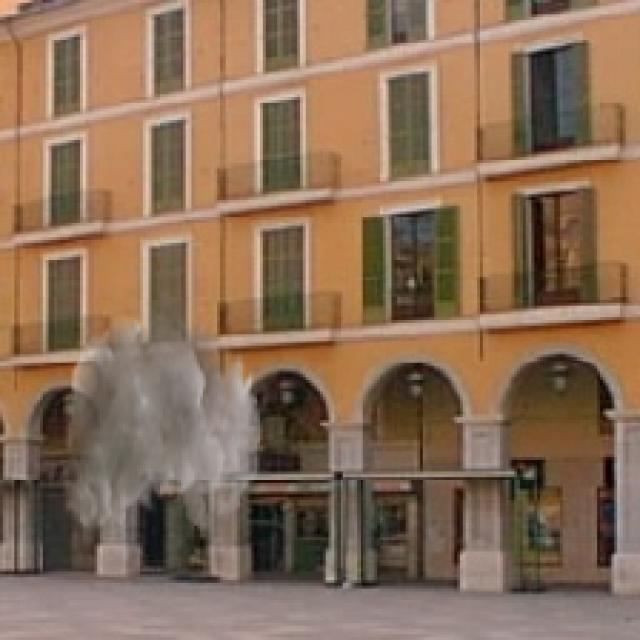smoke: (60, 286, 263, 540)
